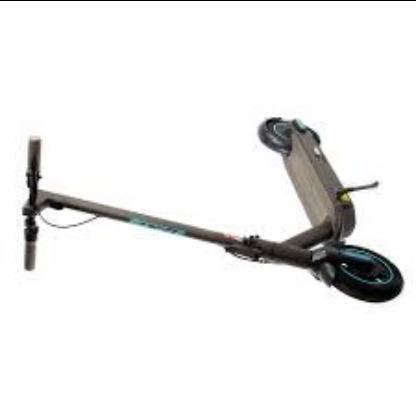bike: (19, 117, 405, 304), (224, 118, 404, 304)
